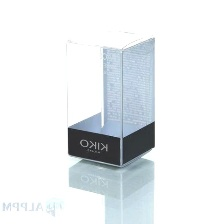plastic_box: (57, 20, 165, 174)
